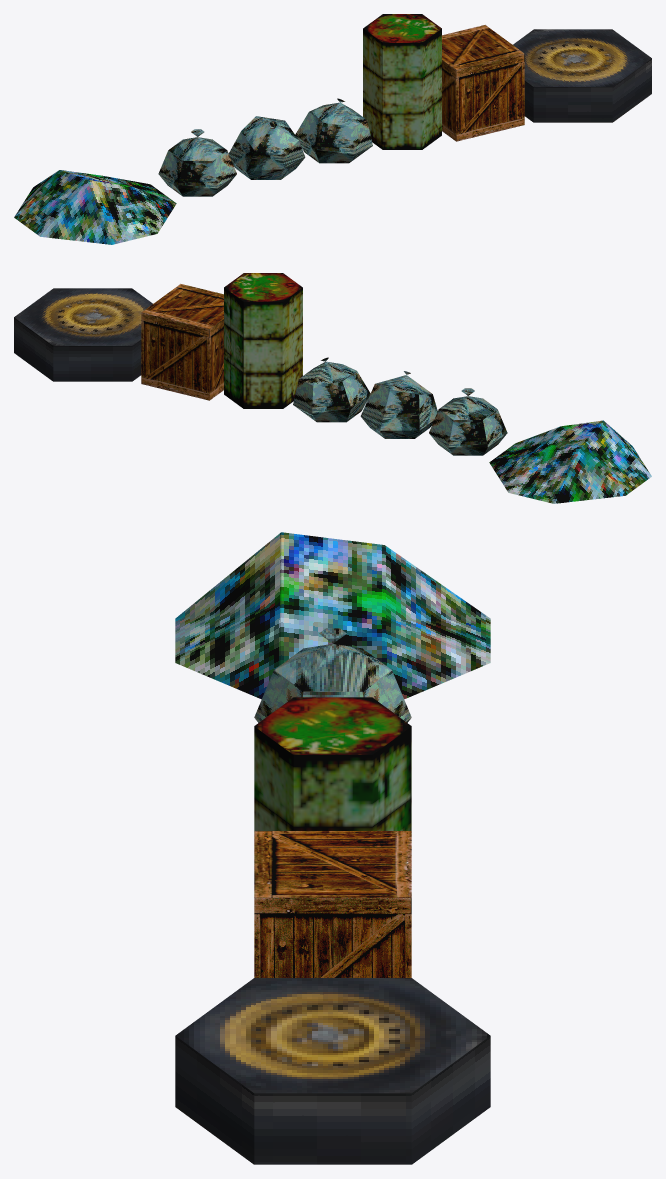
3 renders of one model, top to bottom at view 1: azimuth 30°, elevation 25°; view 2: azimuth 150°, elevation 25°; view 3: azimuth 270°, elevation 25°, orthographic. The views are drawn at different scales.
Parts seen in each view (by area): view 1: wheel-col, barrel-col, trash-pile, crate-col, trash_bag_02, trash_bag_01, trash_bag_03; view 2: wheel-col, barrel-col, trash-pile, crate-col, trash_bag_02, trash_bag_01, trash_bag_03; view 3: wheel-col, trash-pile, crate-col, barrel-col, trash_bag_01.
Boxes of the visible parts, x1,y1,x2,y2 form: wheel-col: (513, 29, 651, 122); barrel-col: (363, 14, 441, 149); trash-pile: (14, 170, 176, 244); crate-col: (442, 25, 524, 141); trash_bag_02: (228, 116, 305, 179); trash_bag_01: (158, 129, 236, 196); trash_bag_03: (295, 98, 372, 163); wheel-col: (14, 288, 152, 381); barrel-col: (224, 273, 302, 408); trash-pile: (489, 420, 651, 503); crate-col: (141, 284, 223, 400); trash_bag_02: (360, 371, 437, 438); trash_bag_01: (429, 388, 507, 455); trash_bag_03: (293, 357, 370, 422); wheel-col: (175, 978, 490, 1164); trash-pile: (175, 532, 490, 699); crate-col: (254, 831, 411, 977); barrel-col: (254, 697, 411, 830); trash_bag_01: (254, 628, 411, 722).
Size of the model in its own units: 17.73 by 3 by 4.
5 materials, 5 textured.
